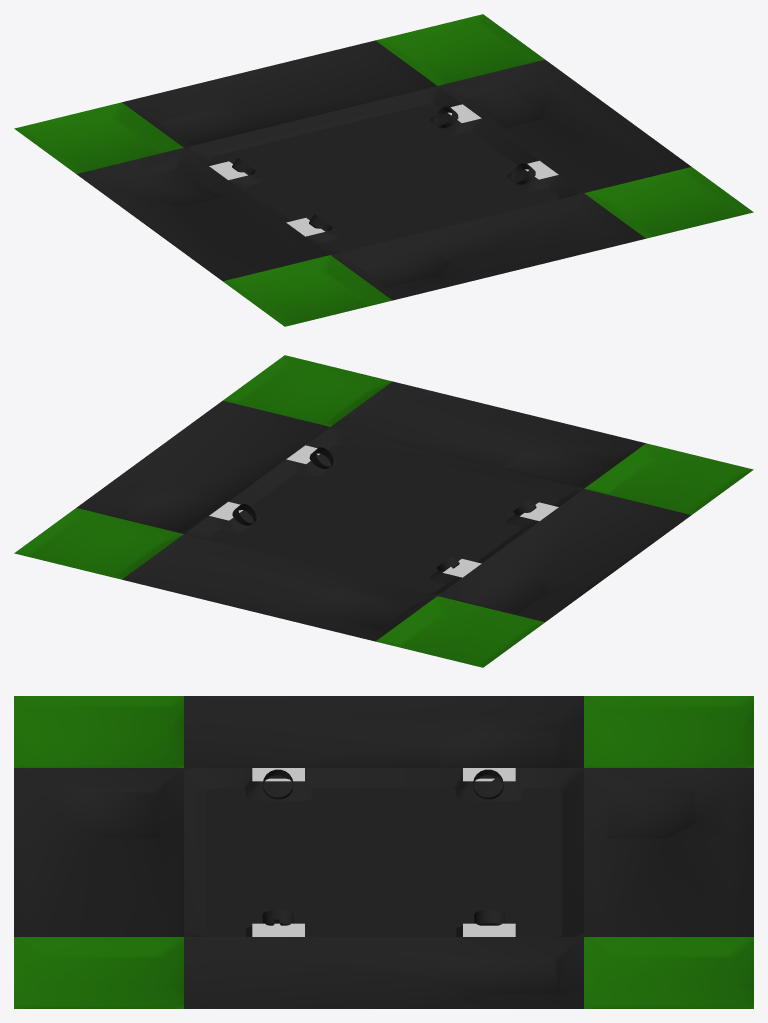
The model's file is Building_A_Room_D_Ceiling_A.fbx.
3 renders of one model, top to bottom at view 1: azimuth 30°, elevation 25°; view 2: azimuth 150°, elevation 25°; view 3: azimuth 270°, elevation 25°, orthographic. The views are drawn at different scales.
Visible parts, largest first — view 1: Geom_Building_A_Room_D_Ceiling_A_LOD00; view 2: Geom_Building_A_Room_D_Ceiling_A_LOD00; view 3: Geom_Building_A_Room_D_Ceiling_A_LOD00.
Part boxes in pixels (x1,y1,x2,y2): Geom_Building_A_Room_D_Ceiling_A_LOD00: [14, 14, 753, 326]; Geom_Building_A_Room_D_Ceiling_A_LOD00: [14, 355, 753, 667]; Geom_Building_A_Room_D_Ceiling_A_LOD00: [14, 696, 753, 1008].
Size of what is drawn, in the model's own units: 740 by 31.55 by 740.
